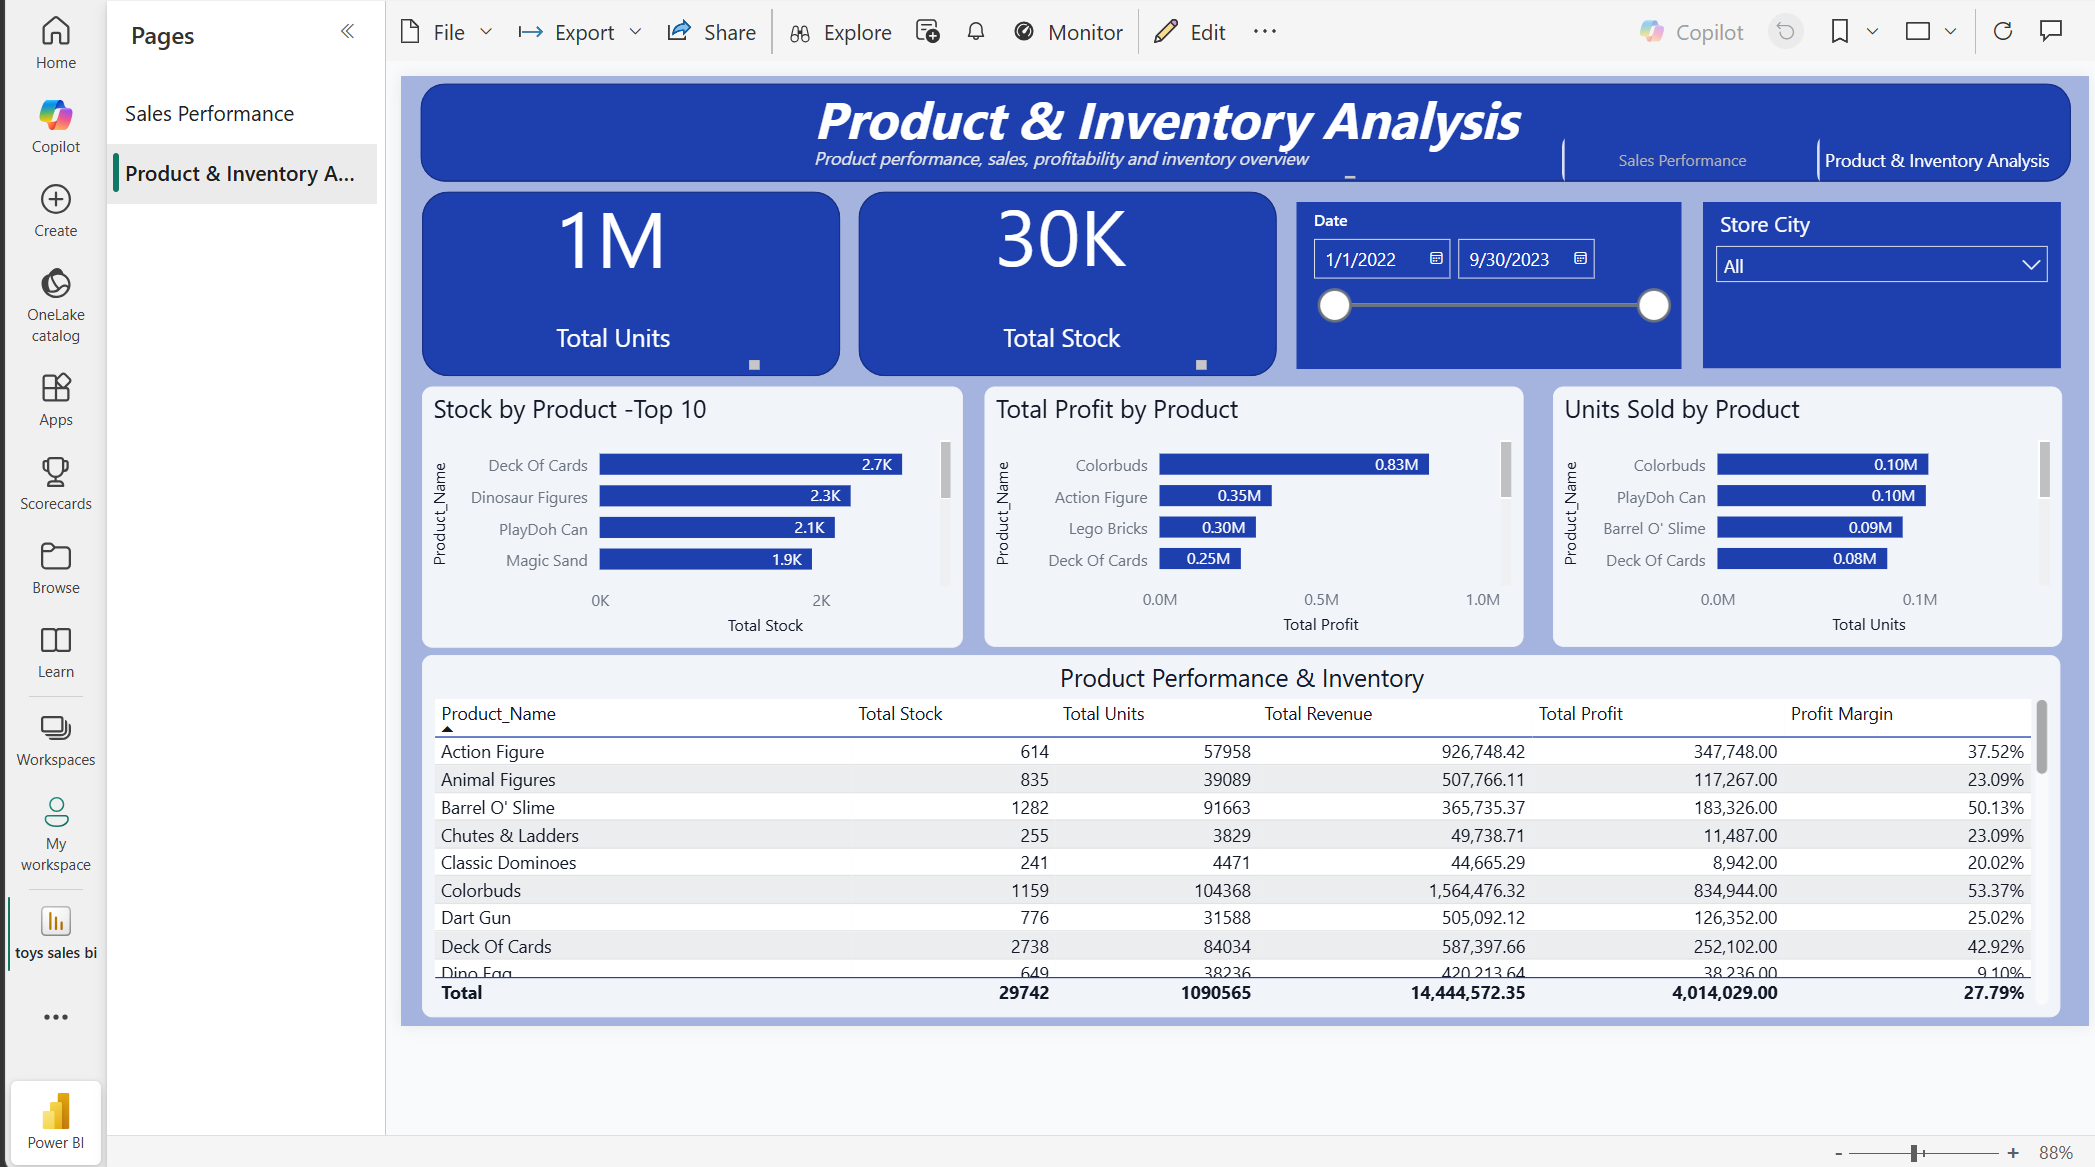

What the dashboard file says about the page in this screenshot:
{"tool":"powerbi","page":{"name":"Product & Inventory Analysis","canvas":[1280,720],"ordinal":1},"visuals":[{"type":"shape","box":[15.9,87.8,317,140.1],"z":0},{"type":"shape","box":[346.9,87.8,317,140.1],"z":1000},{"type":"clusteredBarChart","title":"Stock by Product -Top 10","fields":{"Category":["products.Product_Name"],"Y":["Table.Total Stock"]},"box":[16.1,235.1,410.2,197.9],"z":2000},{"type":"clusteredBarChart","title":"Units Sold by Product","fields":{"Category":["products.Product_Name"],"Y":["Table.Total Units"]},"box":[872.7,235.1,385.8,197.3],"z":3000},{"type":"tableEx","title":"Product Performance & Inventory","fields":{"Values":["products.Product_Name","Table.Total Stock","Table.Total Units","Table.Total Revenue","Table.Total Profit","Table.Profit Margin"]},"box":[15.6,439.1,1241.8,274.6],"z":4000},{"type":"clusteredBarChart","title":"Total Profit by Product","fields":{"Y":["Table.Total Profit"],"Category":["products.Product_Name"]},"box":[442.4,235.1,408.7,197.3],"z":5000},{"type":"slicer","fields":{"Values":["stores.Store_City"]},"box":[987.3,95.4,271.2,126],"z":6000},{"type":"slicer","fields":{"Values":["calendar.Date"]},"box":[679.2,95.4,291.6,126],"z":7000},{"type":"shape","box":[15.1,5.9,1251.2,74.4],"z":8000},{"type":"textbox","title":"Product & Inventory Analysis","box":[308.1,5.9,664,59.3],"z":9000},{"type":"textbox","box":[308.3,47.4,420.2,35.3],"z":10000},{"type":"cardVisual","title":"Total Revenue","fields":{"Data":["Table.Total Units"]},"box":[98.6,65.2,280.1,113.3],"z":11000},{"type":"textbox","title":"Total Units","box":[112.6,185.8,164.2,42],"z":12000},{"type":"cardVisual","title":"Total Revenue","fields":{"Data":["Table.Total Stock"]},"box":[433.3,64.1,255.5,113.6],"z":13000},{"type":"textbox","title":"Total Stock","box":[451.6,185.1,164.5,42.2],"z":14000},{"type":"pageNavigator","box":[880.5,43.7,378,41.1],"z":15000}]}

Visuals, with their boxes on the page's 1280x720 design canvas (x1, y1, x2, y2). These are canvas units, not pixel positions in the 2095x1167 screenshot, which may show the page scaled, cropped or inside an application window:
shape: 16 88 333 228
shape: 347 88 664 228
"Stock by Product -Top 10" clusteredBarChart: 16 235 426 433
"Units Sold by Product" clusteredBarChart: 873 235 1258 432
"Product Performance & Inventory" tableEx: 16 439 1257 714
"Total Profit by Product" clusteredBarChart: 442 235 851 432
slicer - stores.Store_City: 987 95 1258 221
slicer - calendar.Date: 679 95 971 221
shape: 15 6 1266 80
"Product & Inventory Analysis" textbox: 308 6 972 65
textbox: 308 47 728 83
"Total Revenue" cardVisual: 99 65 379 178
"Total Units" textbox: 113 186 277 228
"Total Revenue" cardVisual: 433 64 689 178
"Total Stock" textbox: 452 185 616 227
pageNavigator: 880 44 1258 85
